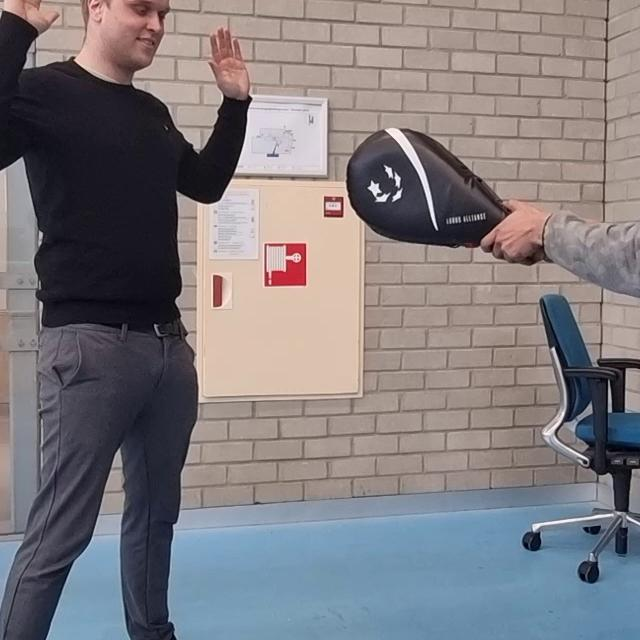paddle: (348, 127, 515, 247)
